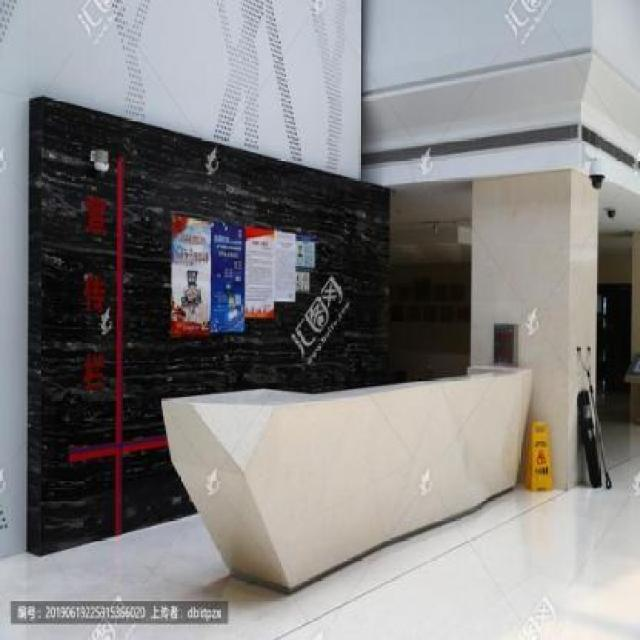frontdesk: (155, 351, 538, 603)
